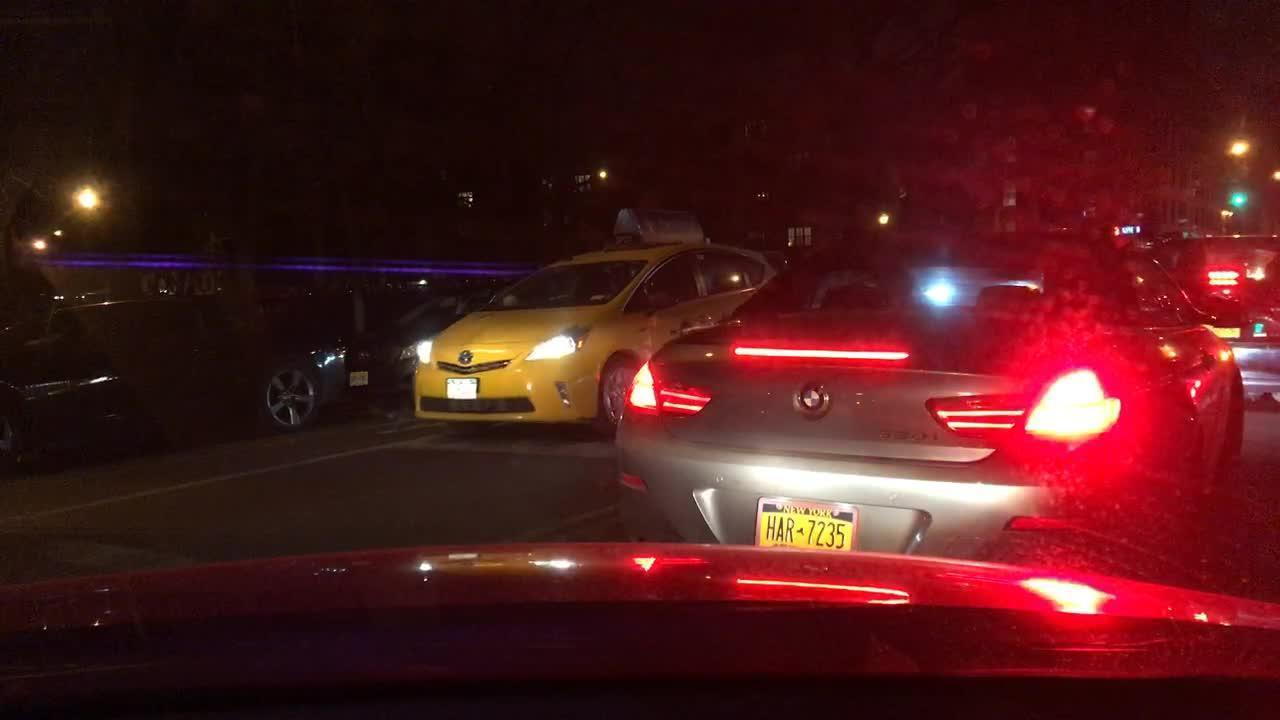Toyota: (450, 345, 481, 366)
bmw: (780, 378, 835, 422)
